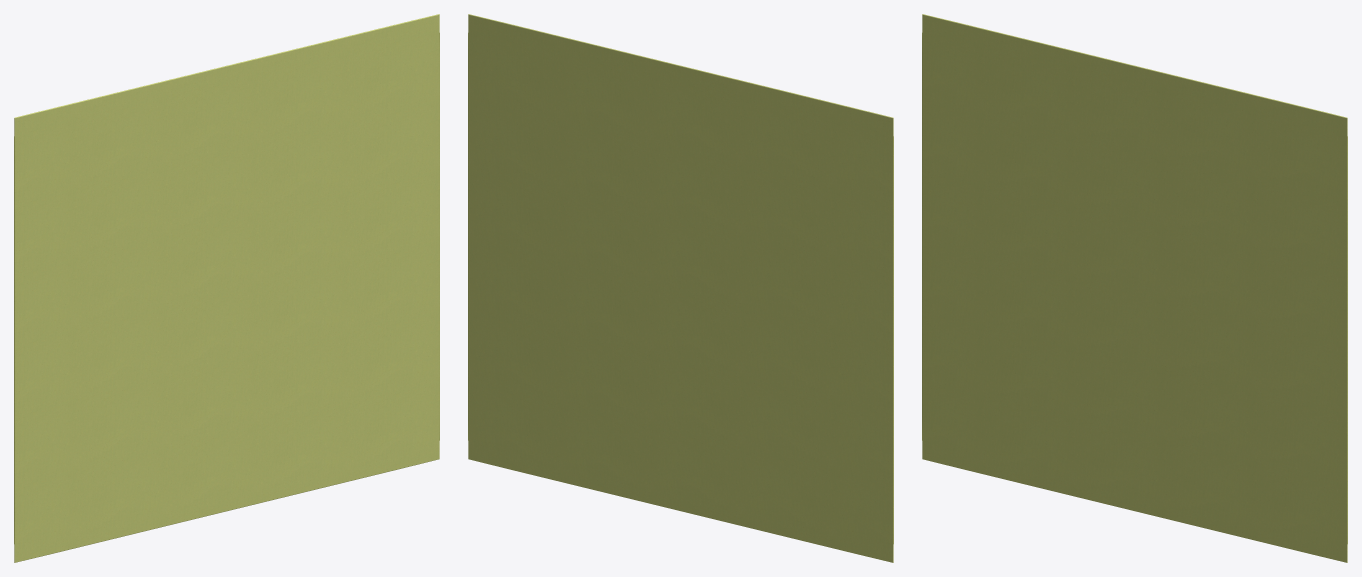
The picture shows the model from 3 angles, left to right: view 1: azimuth 30°, elevation 25°; view 2: azimuth 150°, elevation 25°; view 3: azimuth 330°, elevation 25°; orthographic projection.
Visible parts, largest first — view 1: V2_Woven_Dewspo_2; view 2: V2_Woven_Dewspo_2; view 3: V2_Woven_Dewspo_2.
Boxes of the visible parts, x1,y1,x2,y2 form: V2_Woven_Dewspo_2: (14, 14, 439, 562); V2_Woven_Dewspo_2: (468, 14, 893, 562); V2_Woven_Dewspo_2: (922, 14, 1347, 562).
Bounding box in the file's own units: 0.2005 × 0.2005 × 0.0005.
1 material, 1 textured.
